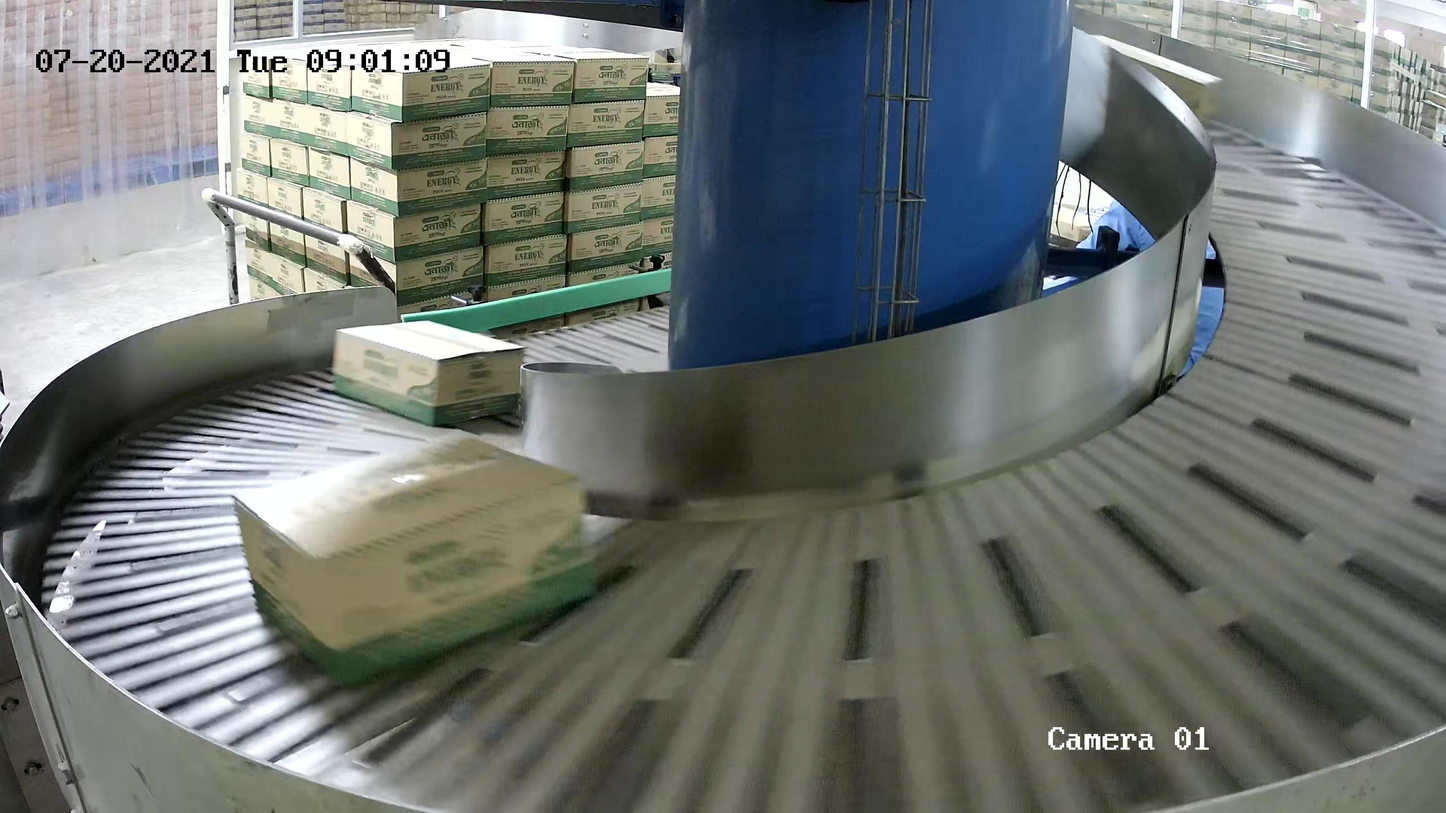Box: (231, 431, 598, 686), (331, 320, 527, 427)
